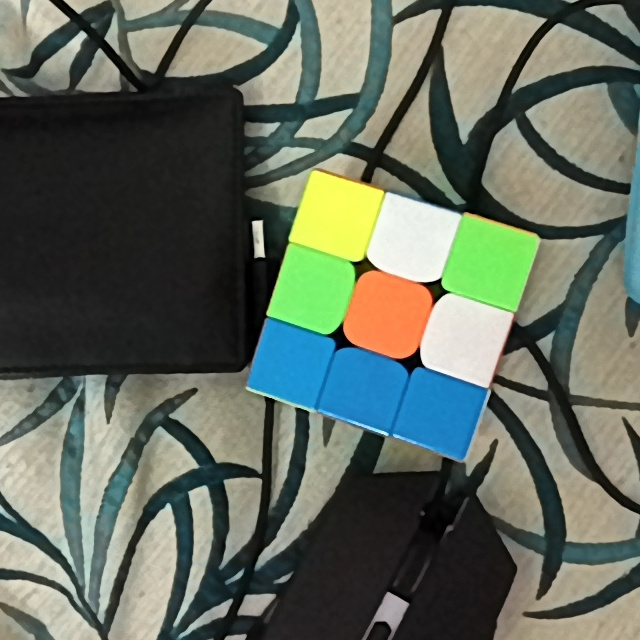tile: (412, 383, 472, 441), (357, 287, 417, 344), (463, 231, 517, 292), (435, 312, 492, 369), (264, 336, 323, 391), (308, 189, 368, 243), (334, 364, 394, 416), (288, 263, 341, 317), (383, 215, 437, 264)
